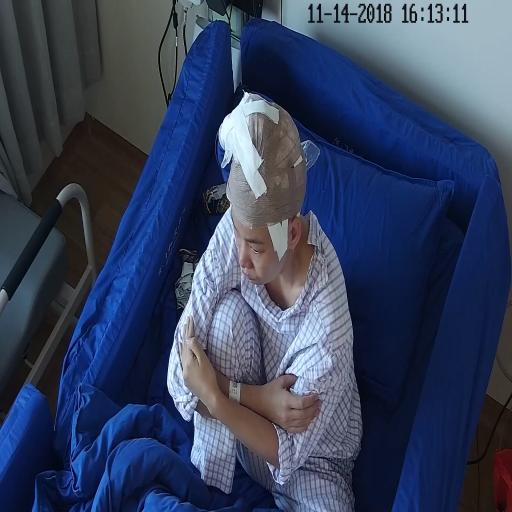Netural: (222, 137, 299, 291)
